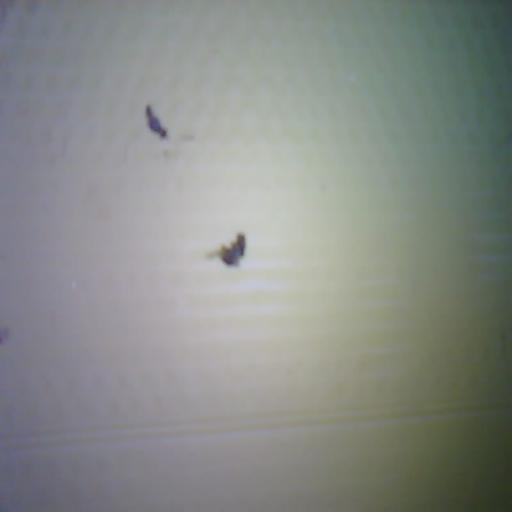Insects: (209, 233, 245, 265), (145, 105, 167, 138)
